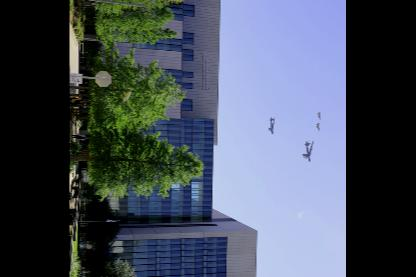B2: (303, 139, 314, 162), (269, 116, 276, 134)
F117: (318, 110, 322, 120), (316, 121, 320, 130)
